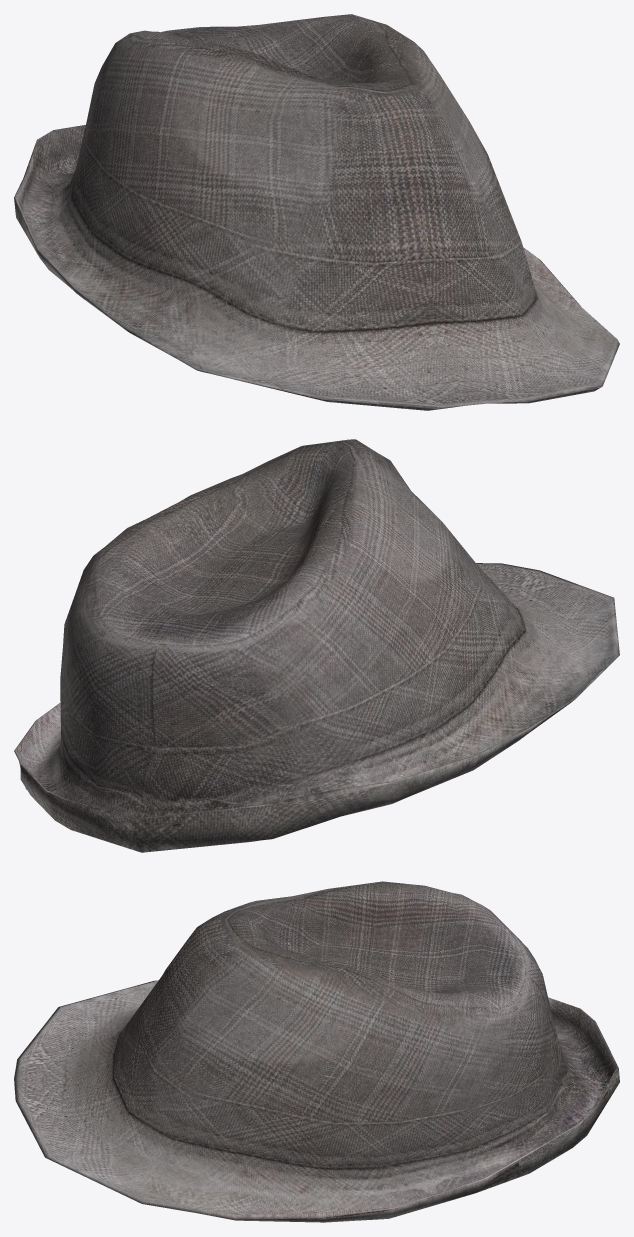
Rendered from CockedFedora.fbx.
The picture shows the model from 3 angles, top to bottom: view 1: azimuth 30°, elevation 25°; view 2: azimuth 150°, elevation 25°; view 3: azimuth 270°, elevation 25°; orthographic projection. The views are drawn at different scales.
Visible parts, largest first — view 1: CockedFedora; view 2: CockedFedora; view 3: CockedFedora.
Part boxes in pixels (left/top/right/bottom): CockedFedora: left=14, top=14, right=619, bottom=410; CockedFedora: left=14, top=439, right=619, bottom=852; CockedFedora: left=14, top=881, right=619, bottom=1222.
Bounding box in the file's own units: 0.1967 × 0.1131 × 0.2726.
